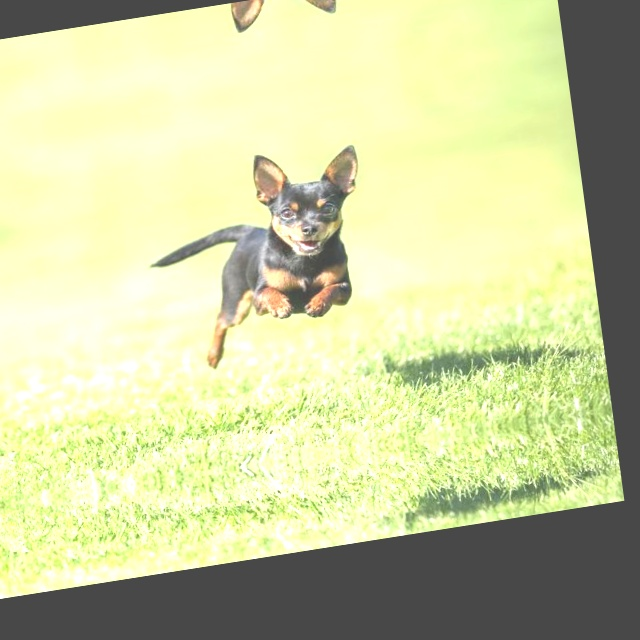dog: (131, 132, 395, 390), (111, 0, 351, 56), (184, 529, 420, 570)
